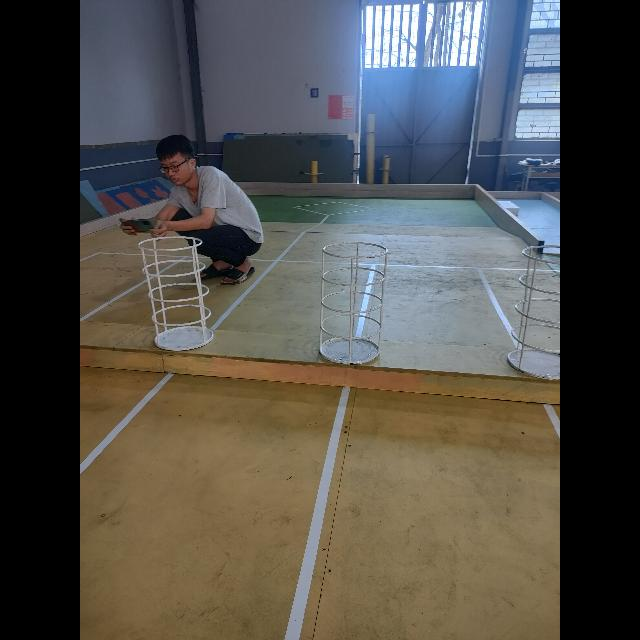S: (137, 235, 215, 352), (319, 240, 388, 365), (507, 245, 560, 382)
